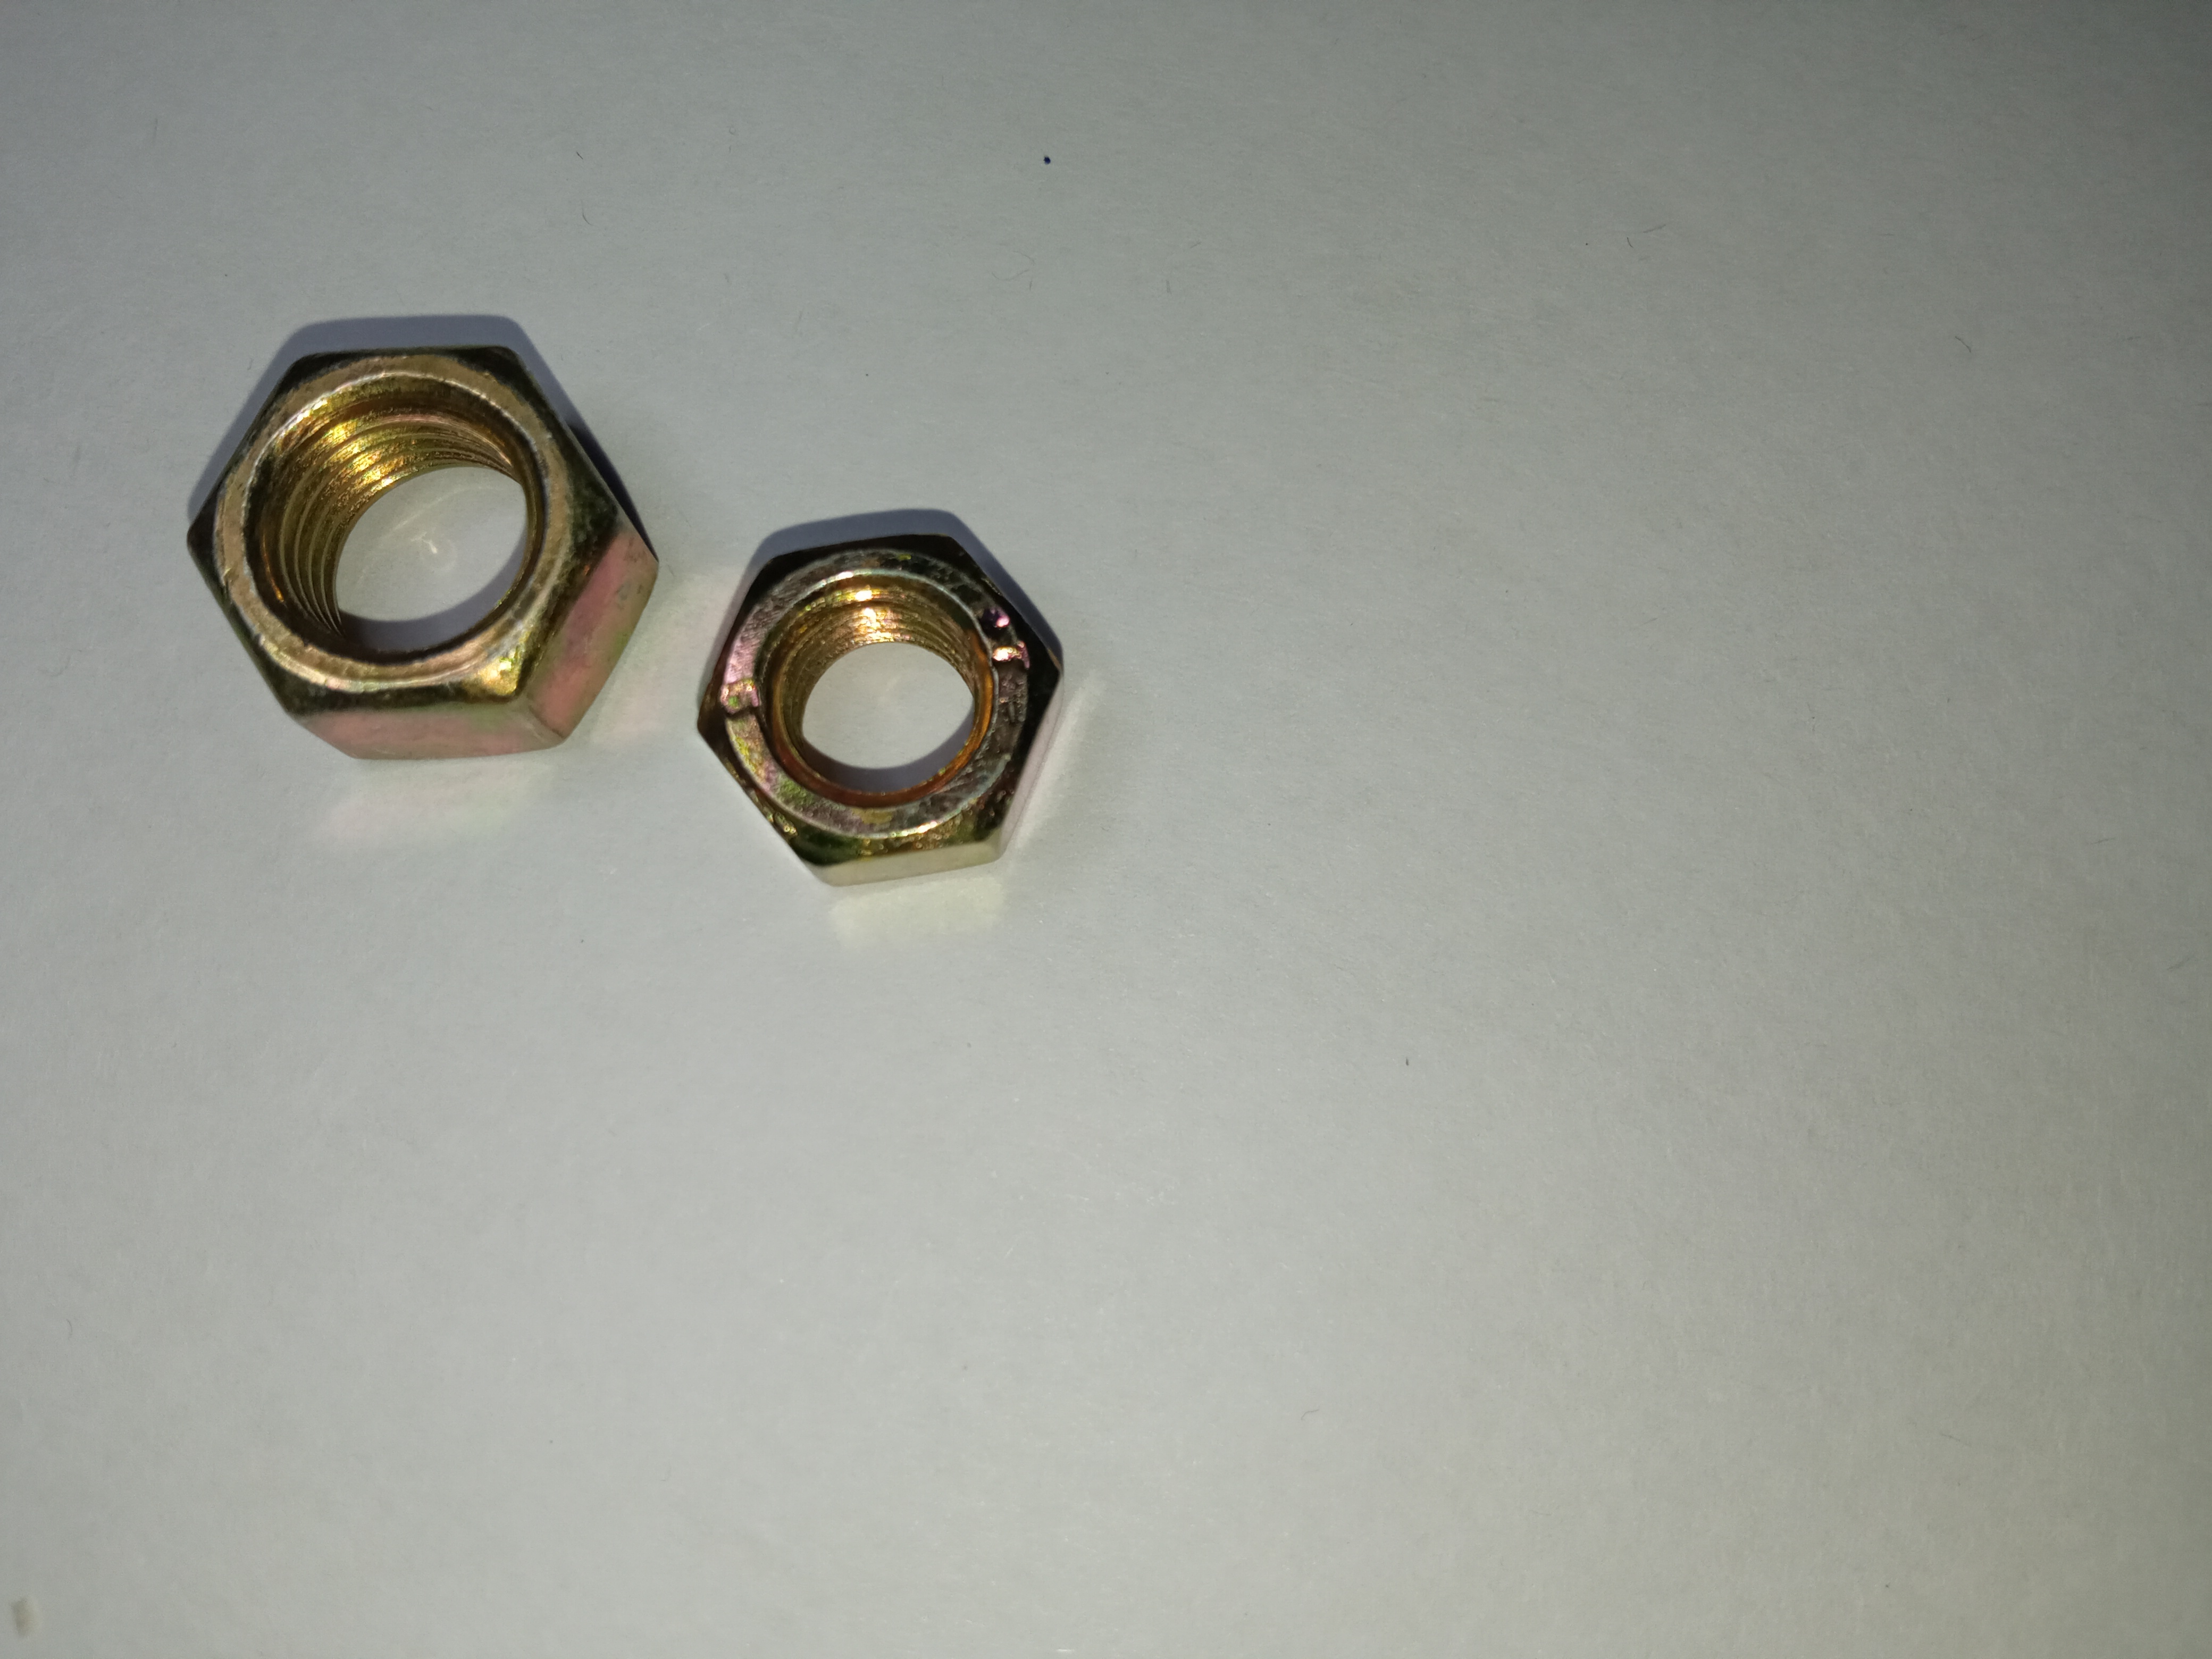m10: (192, 343, 601, 744)
m8: (712, 532, 1064, 878)
